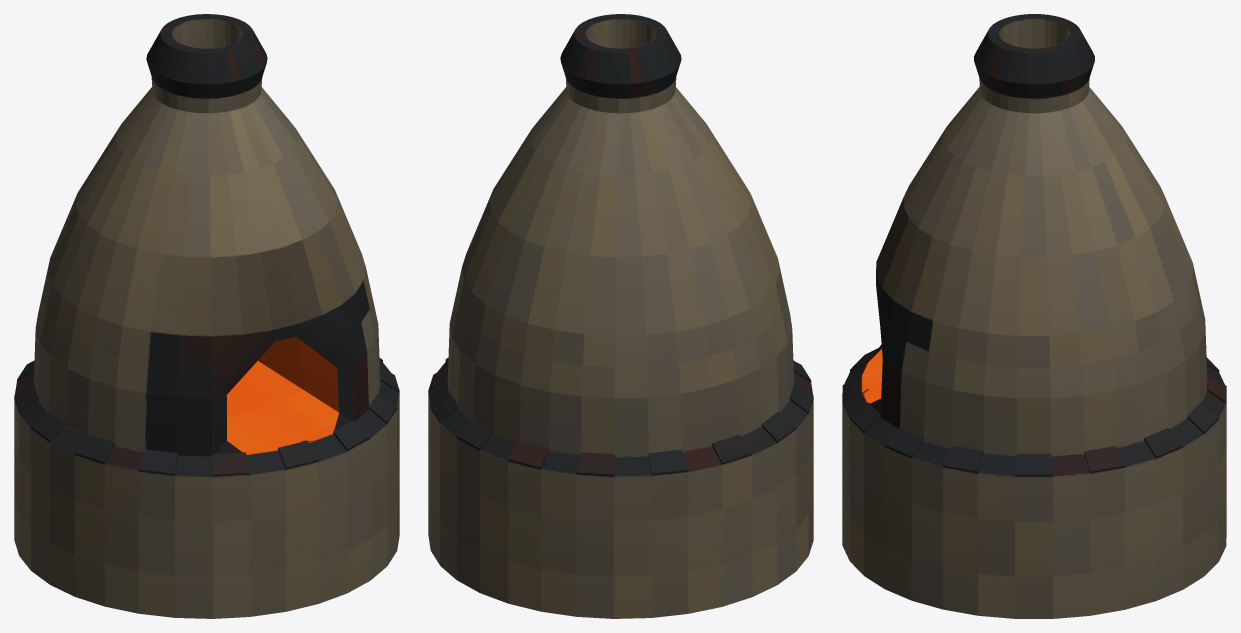
The model's file is forge_textured.fbx.
The picture shows the model from 3 angles, left to right: view 1: azimuth 30°, elevation 25°; view 2: azimuth 150°, elevation 25°; view 3: azimuth 270°, elevation 25°; orthographic projection.
Parts seen in each view (by area): view 1: SM_Forge; view 2: SM_Forge; view 3: SM_Forge.
Boxes of the visible parts, <box> form: SM_Forge: <box>14,14,399,618</box>; SM_Forge: <box>428,14,813,618</box>; SM_Forge: <box>842,14,1226,618</box>.
Bounding box in the file's own units: 721 × 1043 × 721.
Materials: 1 (1 with a texture image).
